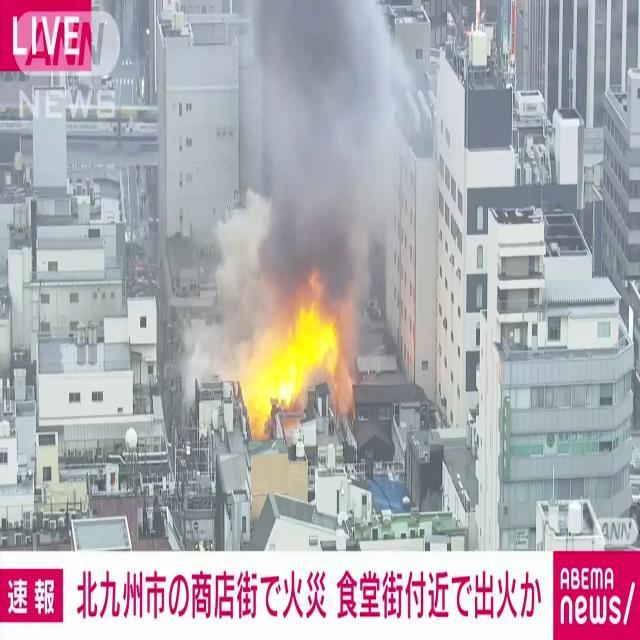Fire: (238, 290, 352, 427)
Smoke: (232, 0, 423, 316)
